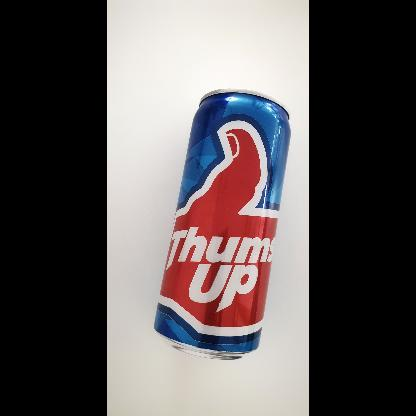Tin_Can: (150, 86, 294, 370)
